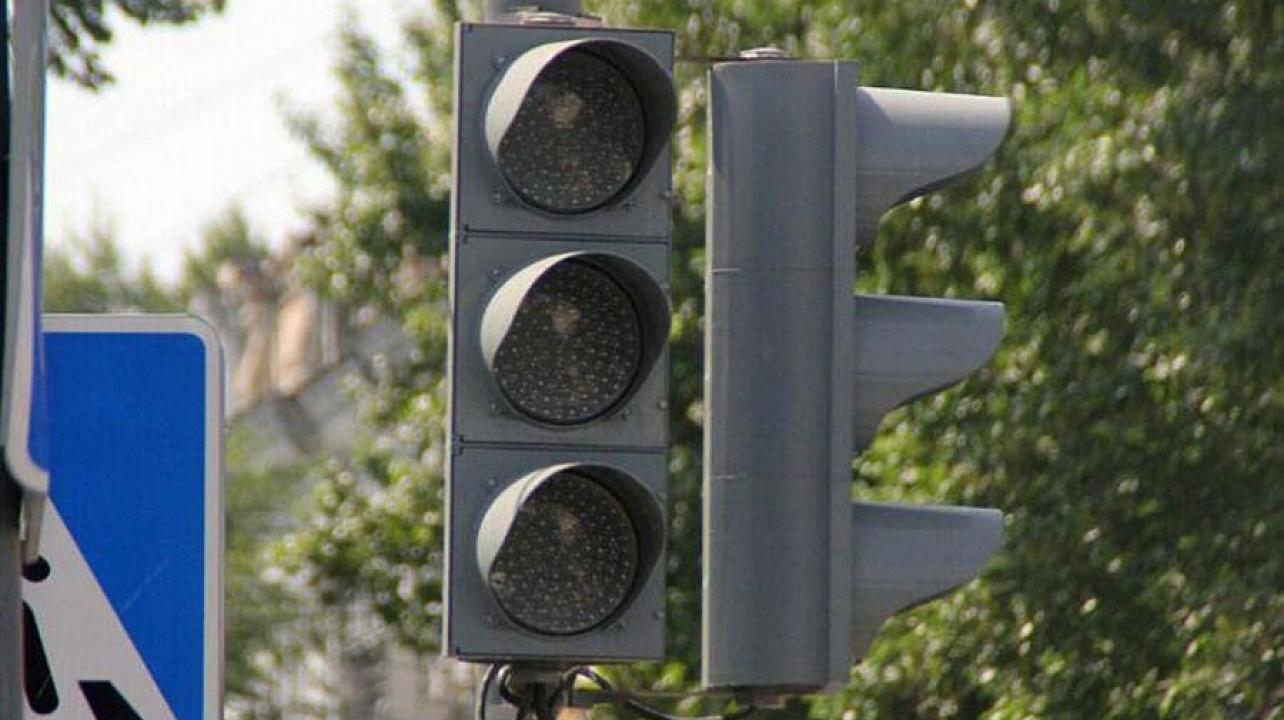obstructed_road_sign: (2, 315, 227, 720)
off traffic light: (700, 58, 1017, 688), (443, 10, 677, 664)
